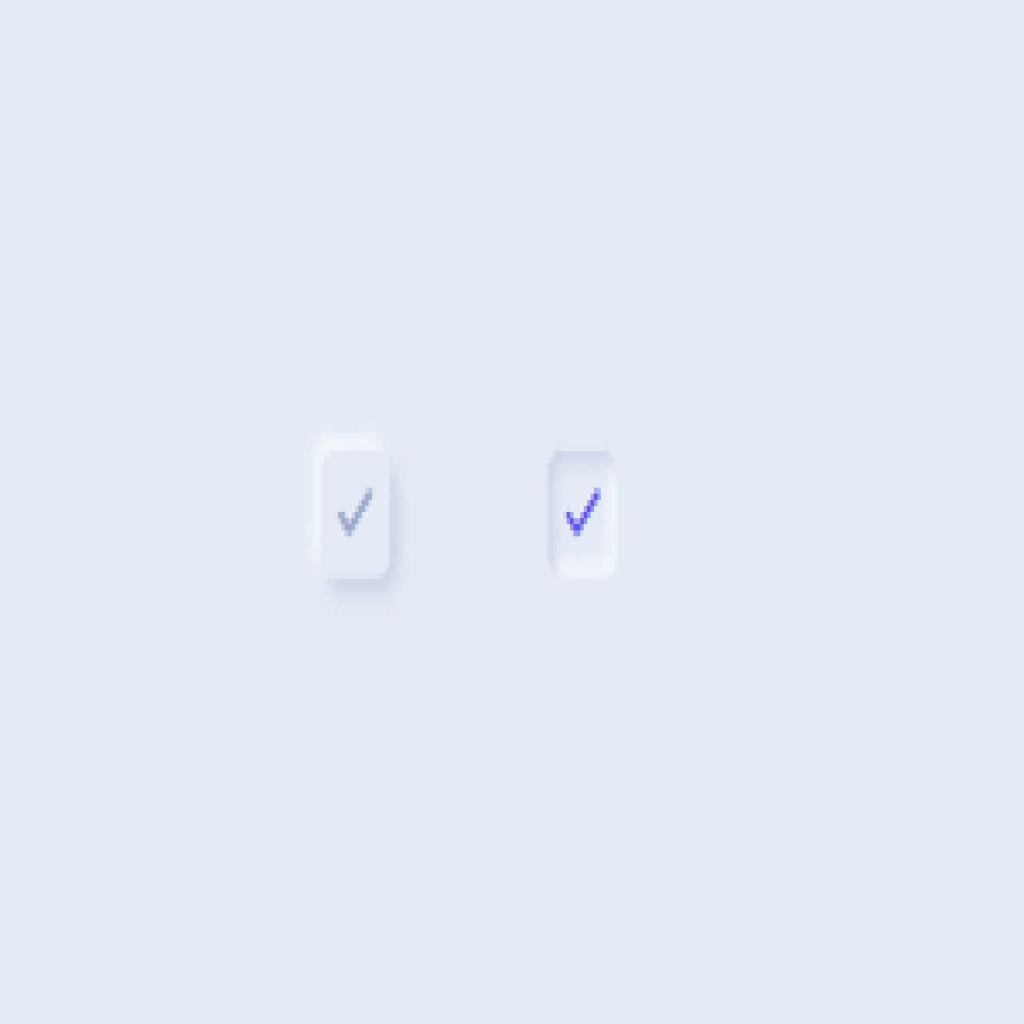checkbox: (316, 449, 394, 586), (549, 451, 626, 586)
